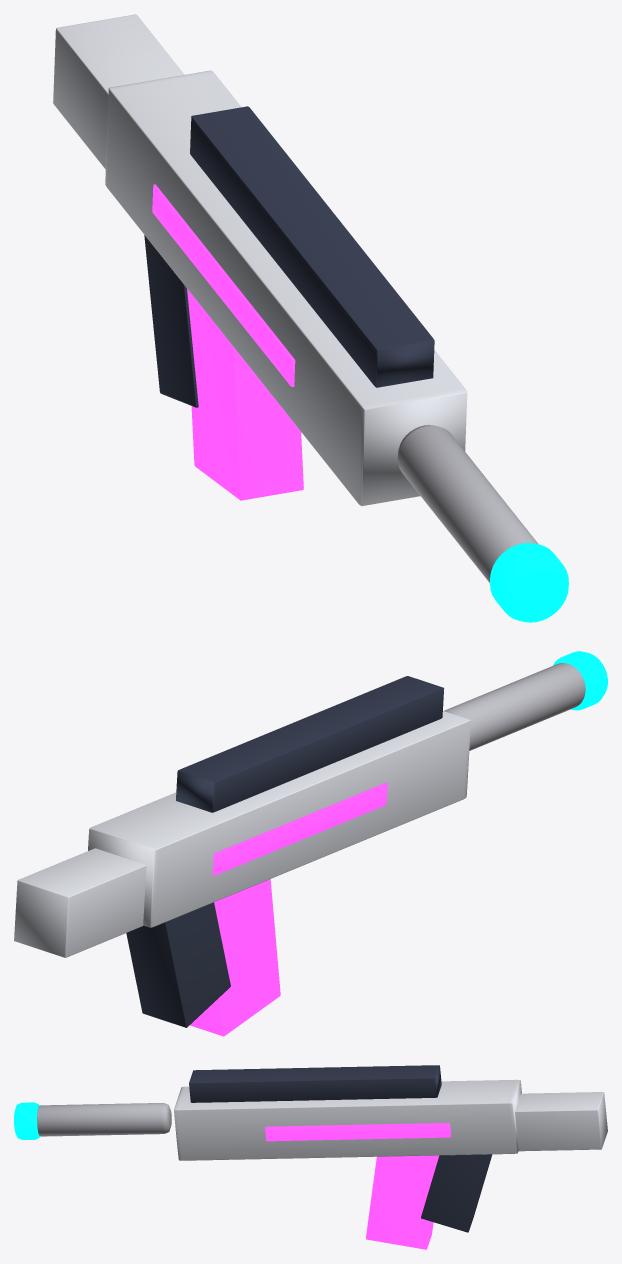
File: OrbitRush_R77_Rifle.fbx
3 views of the same model, one above another, from view 1: azimuth 30°, elevation 25°; view 2: azimuth 150°, elevation 25°; view 3: azimuth 270°, elevation 25° (orthographic). The views are drawn at different scales.
Parts seen in each view (by area): view 1: Gun_Body, Gun_Top_Rail, Gun_Magazine, Gun_Stock, Gun_Barrel, Gun_Grip, Gun_EnergyTip, Gun_Stripe; view 2: Gun_Body, Gun_Top_Rail, Gun_Stock, Gun_Grip, Gun_Magazine, Gun_Barrel, Gun_Stripe, Gun_EnergyTip; view 3: Gun_Body, Gun_Top_Rail, Gun_Magazine, Gun_Stock, Gun_Barrel, Gun_Grip, Gun_Stripe, Gun_EnergyTip.
Boxes of the visible parts, x1,y1,x2,y2 form: Gun_Body: (105,70,467,505); Gun_Top_Rail: (190,106,434,387); Gun_Magazine: (187,289,303,500); Gun_Stock: (53,14,184,168); Gun_Barrel: (397,425,538,582); Gun_Grip: (144,235,198,407); Gun_EnergyTip: (490,543,568,622); Gun_Stripe: (152,184,295,386); Gun_Body: (88,711,470,927); Gun_Top_Rail: (176,676,444,812); Gun_Stock: (14,848,146,957); Gun_Grip: (126,902,230,1027); Gun_Magazine: (190,879,280,1036); Gun_Barrel: (444,663,585,750); Gun_Stripe: (212,782,387,875); Gun_EnergyTip: (553,651,607,710); Gun_Body: (174,1079,521,1160); Gun_Top_Rail: (189,1065,441,1102); Gun_Magazine: (366,1155,439,1249); Gun_Stock: (515,1092,607,1151); Gun_Barrel: (37,1103,171,1136); Gun_Grip: (421,1154,492,1232); Gun_Stripe: (265,1123,451,1141); Gun_EnergyTip: (14,1102,40,1139).
Size of the model in its own units: 0.1951 by 0.3029 by 0.9499.
